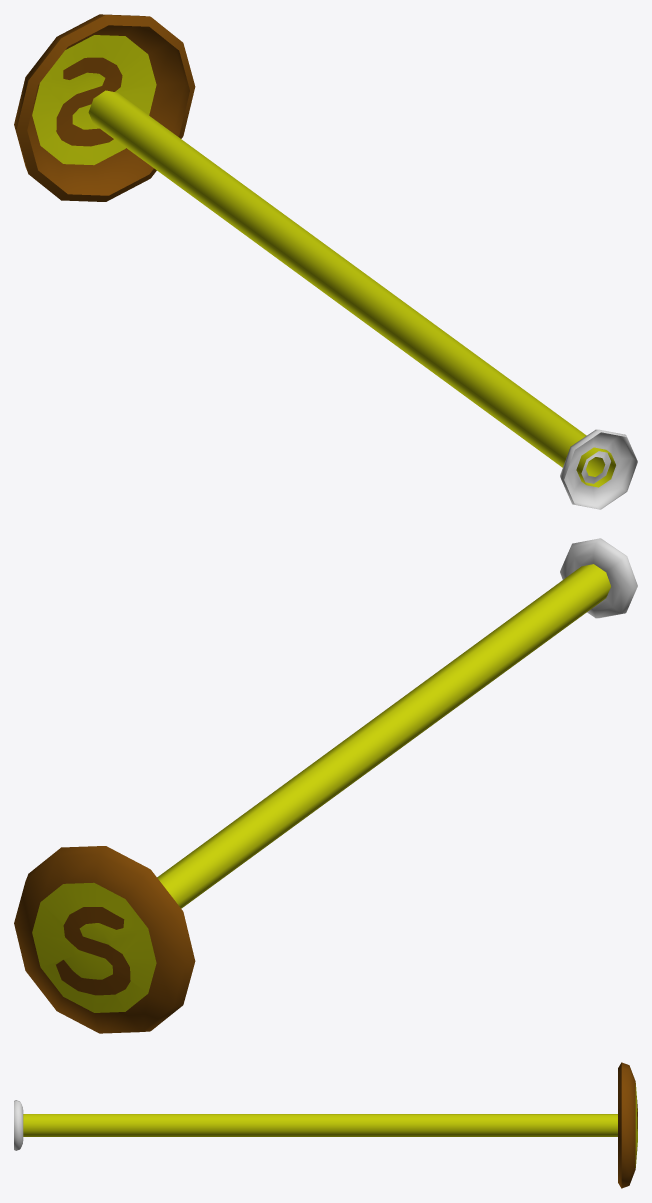
The model's file is StartStick.fbx.
3 views of the same model, one above another, from view 1: azimuth 30°, elevation 25°; view 2: azimuth 150°, elevation 25°; view 3: azimuth 270°, elevation 25° (orthographic). The views are drawn at different scales.
Visible parts, largest first — view 1: StartStick, StartStickNob; view 2: StartStick, StartStickNob; view 3: StartStick, StartStickNob.
Part boxes in pixels (x1=…): StartStick: x1=14, y1=14, x2=615, y2=487; StartStickNob: x1=560, y1=429, x2=637, y2=509; StartStick: x1=14, y1=564, x2=610, y2=1033; StartStickNob: x1=560, y1=538, x2=637, y2=618; StartStick: x1=23, y1=1062, x2=637, y2=1188; StartStickNob: x1=14, y1=1100, x2=23, y2=1150.
Size of the model in its own units: 105 by 105 by 515.
